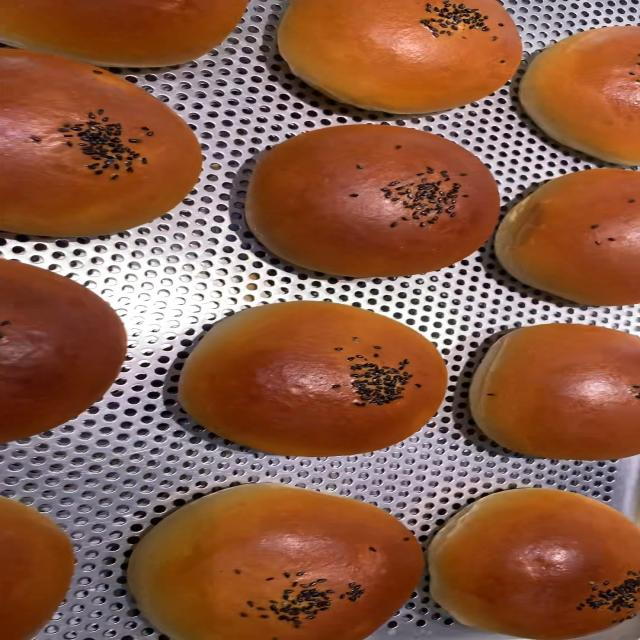bread: (128, 481, 429, 640), (170, 298, 453, 459), (243, 124, 517, 277), (0, 52, 209, 242), (424, 490, 640, 640), (276, 0, 526, 114), (492, 174, 638, 304), (0, 1, 264, 67), (519, 26, 640, 166)
